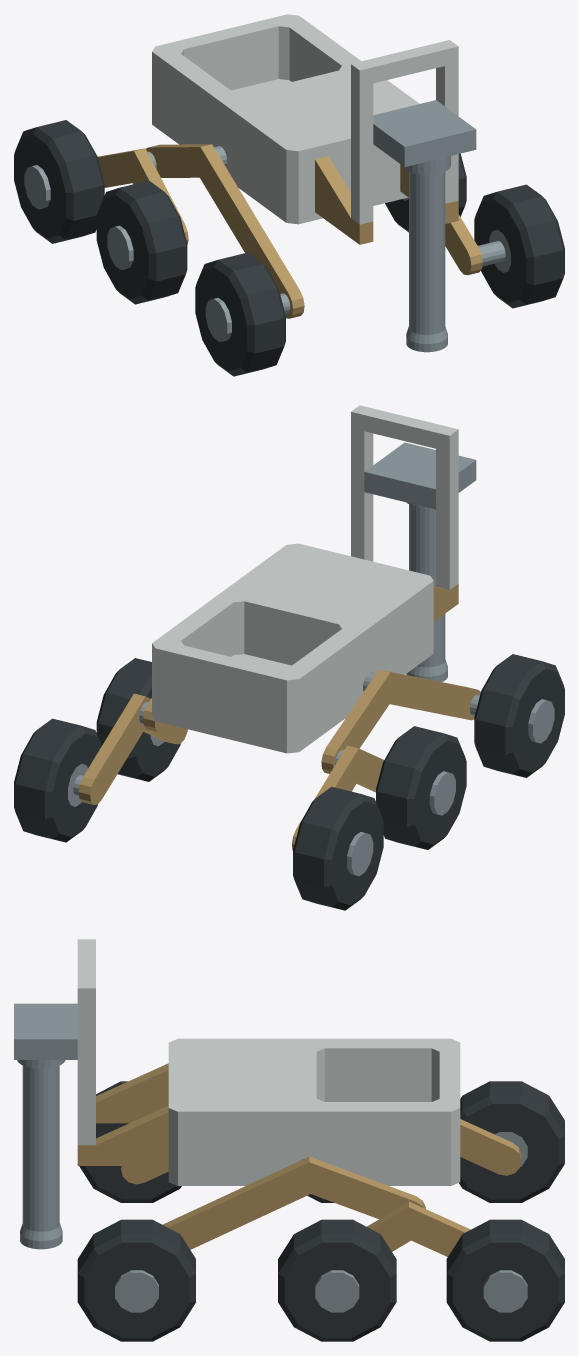
The picture shows the model from 3 angles, top to bottom: view 1: azimuth 30°, elevation 25°; view 2: azimuth 150°, elevation 25°; view 3: azimuth 270°, elevation 25°; orthographic projection.
Parts seen in each view (by area): view 1: WholeChassisAndOpenSampleReceiver, LeftMiddleWholeWheel, LeftFrontWholeWheel, LeftRearWholeWheel, RightFrontWholeWheel, WholeOpenMouthCoringShell, LeftWholeMainAngularCarrier, WholeFixedCoringCarriage, LeftWholeTowerRail, WholeUpperTowerCrossMember, LeftWholeTowerMountCheek, LeftWholeRearPairCarrier (+5 smaller); view 2: WholeChassisAndOpenSampleReceiver, LeftRearWholeWheel, LeftFrontWholeWheel, LeftMiddleWholeWheel, RightRearWholeWheel, LeftWholeMainAngularCarrier, RightMiddleWholeWheel, WholeFixedCoringCarriage, RightWholeRearPairCarrier, LeftWholeTowerRail, WholeOpenMouthCoringShell, RightWholeTowerRail (+3 smaller); view 3: WholeChassisAndOpenSampleReceiver, RightRearWholeWheel, RightFrontWholeWheel, RightMiddleWholeWheel, LeftRearWholeWheel, RightWholeMainAngularCarrier, WholeOpenMouthCoringShell, WholeFixedCoringCarriage, RightWholeTowerMountCheek, RightWholeRearPairCarrier, LeftWholeTowerMountCheek, RightWholeTowerRail (+4 smaller).
Part boxes in pixels (<box>): WholeChassisAndOpenSampleReceiver: <box>152,14,419,224</box>; LeftMiddleWholeWheel: <box>96,180,187,304</box>; LeftFrontWholeWheel: <box>195,252,285,376</box>; LeftRearWholeWheel: <box>14,120,104,243</box>; RightFrontWholeWheel: <box>474,184,564,308</box>; WholeOpenMouthCoringShell: <box>403,156,450,352</box>; LeftWholeMainAngularCarrier: <box>146,144,304,318</box>; WholeFixedCoringCarriage: <box>373,100,476,166</box>; LeftWholeTowerRail: <box>351,80,373,224</box>; WholeUpperTowerCrossMember: <box>351,40,458,86</box>; LeftWholeTowerMountCheek: <box>315,156,373,244</box>; LeftWholeRearPairCarrier: <box>98,148,188,244</box>; WholeChassisAndOpenSampleReceiver: <box>152,543,433,753</box>; LeftRearWholeWheel: <box>293,786,383,910</box>; LeftFrontWholeWheel: <box>474,654,564,777</box>; LeftMiddleWholeWheel: <box>376,726,466,849</box>; RightRearWholeWheel: <box>14,718,101,842</box>; LeftWholeMainAngularCarrier: <box>321,669,480,773</box>; RightMiddleWholeWheel: <box>96,658,180,781</box>; WholeFixedCoringCarriage: <box>364,442,476,509</box>; RightWholeRearPairCarrier: <box>78,693,187,804</box>; LeftWholeTowerRail: <box>436,446,458,589</box>; WholeOpenMouthCoringShell: <box>406,502,447,681</box>; RightWholeTowerRail: <box>351,428,373,561</box>; WholeChassisAndOpenSampleReceiver: <box>168,1038,460,1185</box>; RightRearWholeWheel: <box>446,1219,564,1341</box>; RightFrontWholeWheel: <box>77,1219,195,1341</box>; RightMiddleWholeWheel: <box>278,1219,396,1341</box>; LeftRearWholeWheel: <box>459,1081,564,1202</box>; RightWholeMainAngularCarrier: <box>162,1156,425,1249</box>; WholeOpenMouthCoringShell: <box>17,1060,65,1249</box>; WholeFixedCoringCarriage: <box>14,1003,77,1059</box>; RightWholeTowerMountCheek: <box>77,1105,168,1165</box>; RightWholeRearPairCarrier: <box>367,1201,470,1256</box>; LeftWholeTowerMountCheek: <box>96,1063,168,1123</box>; RightWholeTowerRail: <box>77,1005,95,1145</box>.
Bounding box in the file's own units: 0.844 × 0.73 × 1.21.
